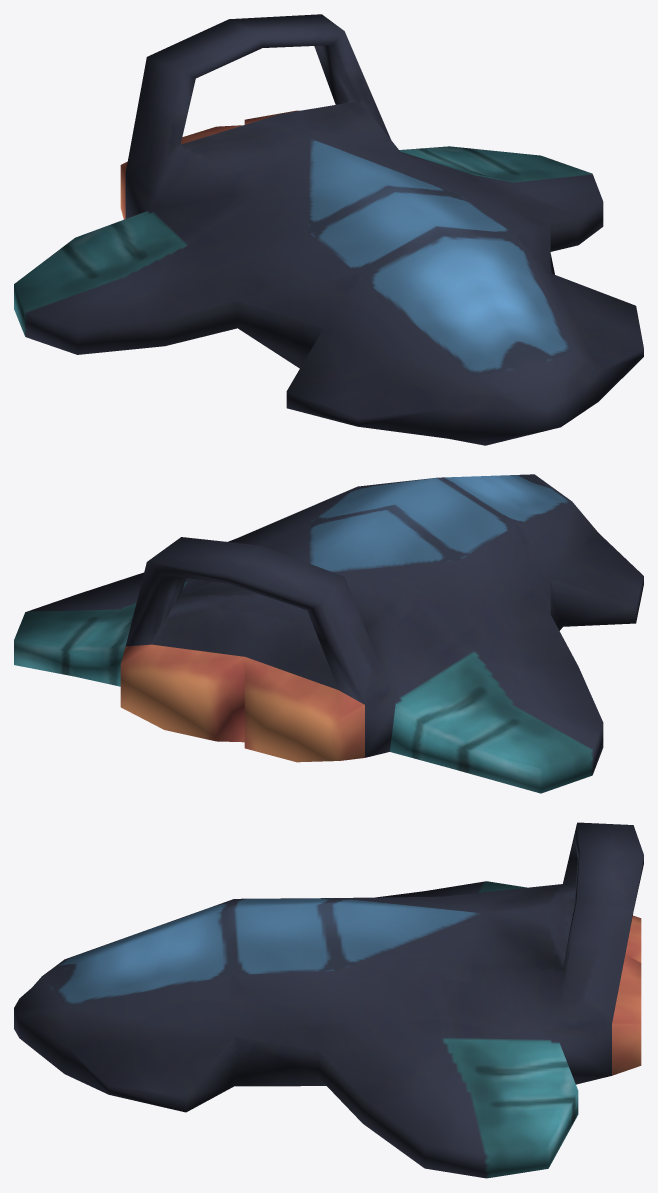
Rendered from player.gltf.
3 views of the same model, one above another, from view 1: azimuth 30°, elevation 25°; view 2: azimuth 150°, elevation 25°; view 3: azimuth 270°, elevation 25° (orthographic).
Parts seen in each view (by area): view 1: Cube; view 2: Cube; view 3: Cube.
Boxes of the visible parts, box(x1,y1,x2,y2) form: Cube: box(14, 14, 643, 445); Cube: box(14, 474, 643, 793); Cube: box(14, 822, 643, 1178).
Size of the model in its own units: 1.72 by 0.6261 by 1.68.
Materials: 1 (1 with a texture image).
